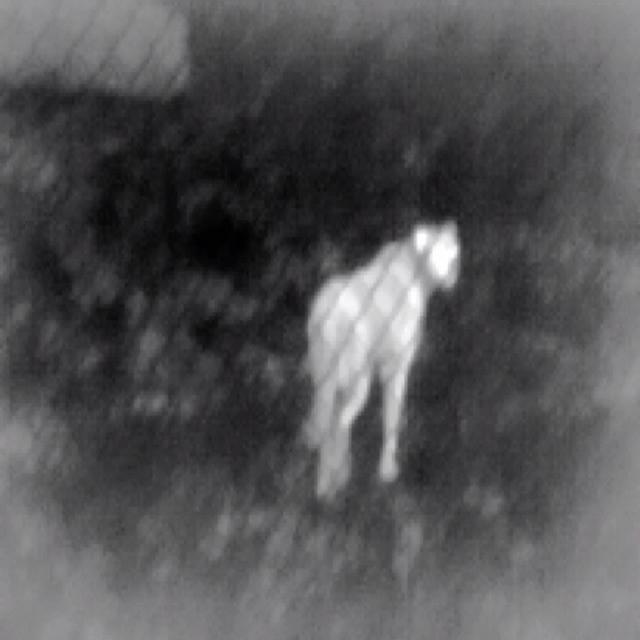cheetah: (306, 223, 461, 497)
